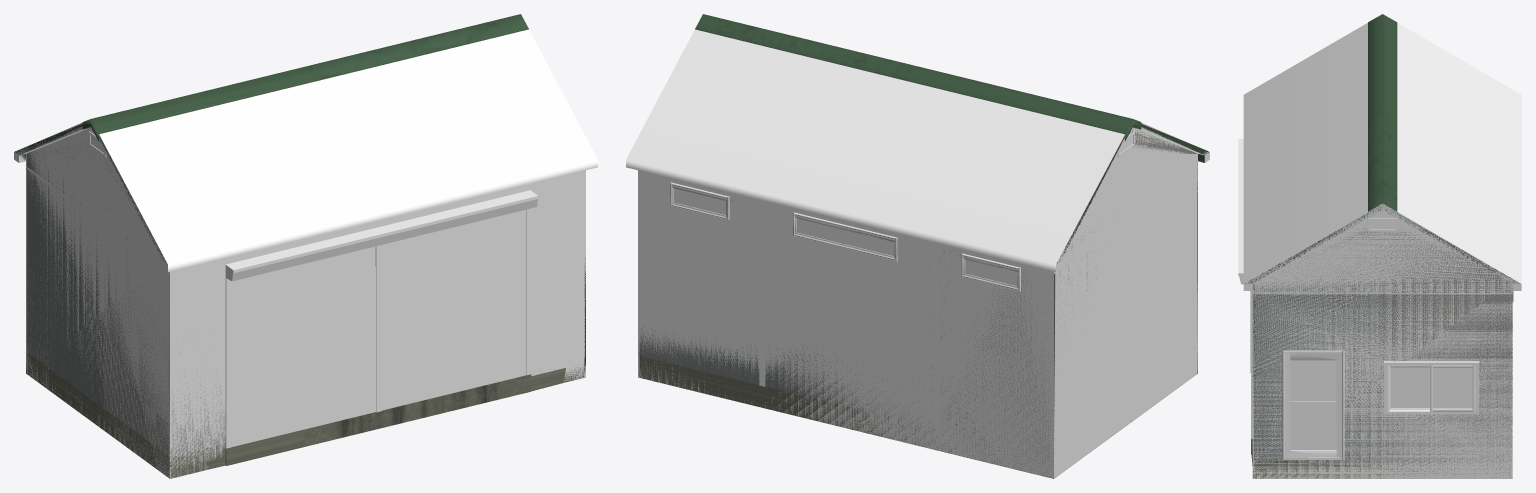
Rendered from objects_un_dlc1_t10storage02.gltf.
3 renders of one model, left to right at view 1: azimuth 30°, elevation 25°; view 2: azimuth 150°, elevation 25°; view 3: azimuth 270°, elevation 25°, orthographic. The views are drawn at different scales.
Visible parts, largest first — view 1: um_objects_un_dlc1_t10storage02_model_lod0Shape:shadow_mtl, um_objects_un_dlc1_t10storage02_model_lod1Shape:objects_un_d (×2), um_objects_un_dlc1_t10storage02_model_lod0Shape:objects_un_d (×4); view 2: um_objects_un_dlc1_t10storage02_model_lod0Shape:shadow_mtl, um_objects_un_dlc1_t10storage02_model_lod0Shape:objects_un_d (×5), um_objects_un_dlc1_t10storage02_model_lod1Shape:objects_un_d; view 3: um_objects_un_dlc1_t10storage02_model_lod0Shape:shadow_mtl, um_objects_un_dlc1_t10storage02_model_lod0Shape:objects_un_d (×6), um_objects_un_dlc1_t10storage02_model_lod1Shape:objects_un_d, um_objects_un_dlc1_t10storage02_model_lod2Shape:objects_un_d.
Part boxes in pixels (left/top/right/bottom): um_objects_un_dlc1_t10storage02_model_lod0Shape:shadow_mtl: left=14, top=29, right=597, bottom=478; um_objects_un_dlc1_t10storage02_model_lod1Shape:objects_un_d (×2): left=20, top=154, right=565, bottom=468; um_objects_un_dlc1_t10storage02_model_lod0Shape:objects_un_d (×4): left=15, top=14, right=585, bottom=478; um_objects_un_dlc1_t10storage02_model_lod0Shape:shadow_mtl: left=626, top=29, right=1209, bottom=478; um_objects_un_dlc1_t10storage02_model_lod0Shape:objects_un_d (×5): left=638, top=14, right=1208, bottom=478; um_objects_un_dlc1_t10storage02_model_lod1Shape:objects_un_d: left=670, top=186, right=1020, bottom=292; um_objects_un_dlc1_t10storage02_model_lod0Shape:shadow_mtl: left=1238, top=23, right=1521, bottom=478; um_objects_un_dlc1_t10storage02_model_lod0Shape:objects_un_d (×6): left=1245, top=14, right=1519, bottom=478; um_objects_un_dlc1_t10storage02_model_lod1Shape:objects_un_d: left=1284, top=353, right=1475, bottom=457; um_objects_un_dlc1_t10storage02_model_lod2Shape:objects_un_d: left=1290, top=360, right=1336, bottom=444.
Size of the model in its own units: 7.76 by 5.32 by 4.9.
Materials: 8 (3 with a texture image).
